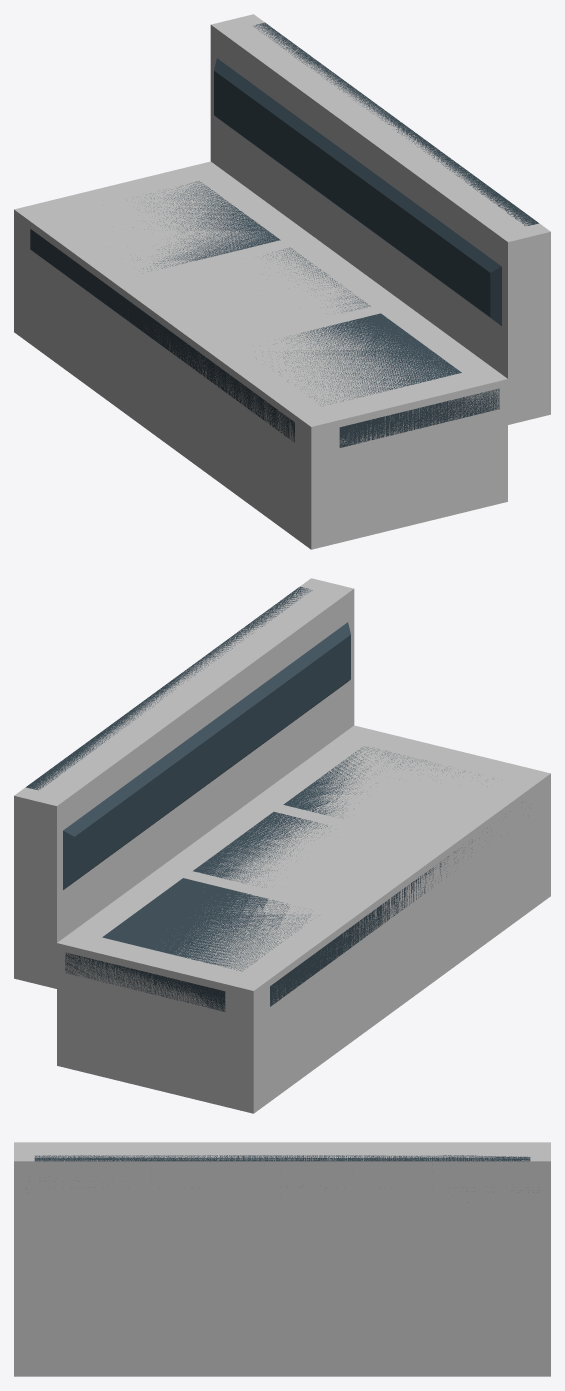
Rendered from SM_Bench_05.fbx.
3 renders of one model, top to bottom at view 1: azimuth 30°, elevation 25°; view 2: azimuth 150°, elevation 25°; view 3: azimuth 270°, elevation 25°, orthographic. The views are drawn at different scales.
Visible parts, largest first — view 1: SM_Bench_05_ConvexHulls, SM_Bench_05; view 2: SM_Bench_05_ConvexHulls, SM_Bench_05; view 3: SM_Bench_05_ConvexHulls, SM_Bench_05.
Part boxes in pixels (x1,y1,x2,y2): SM_Bench_05_ConvexHulls: (14,14,550,549); SM_Bench_05: (30,22,538,447); SM_Bench_05_ConvexHulls: (14,578,550,1113); SM_Bench_05: (26,586,505,1011); SM_Bench_05_ConvexHulls: (14,1142,550,1376); SM_Bench_05: (34,1155,537,1202).
Bounding box in the file's own units: 132 × 284 × 137.
